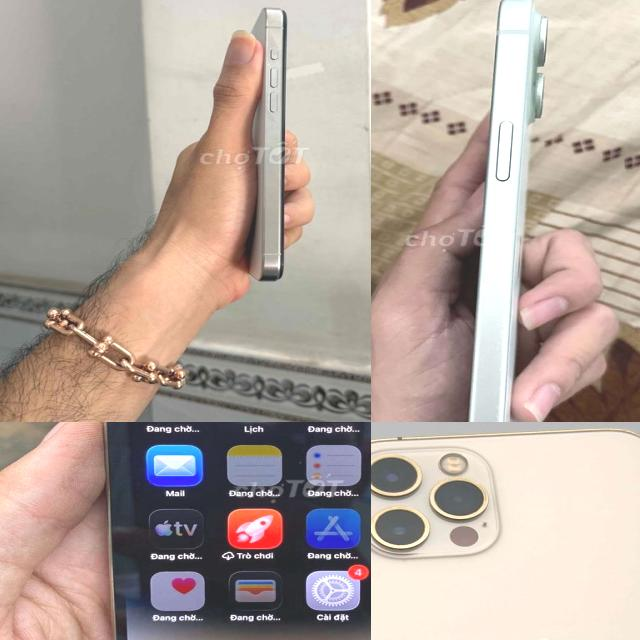gen_12_13: (371, 430, 640, 640)
gen_14: (80, 422, 371, 640)
gen_15: (433, 0, 555, 422), (210, 0, 310, 288)
